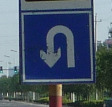u_turn: (18, 0, 96, 83)
